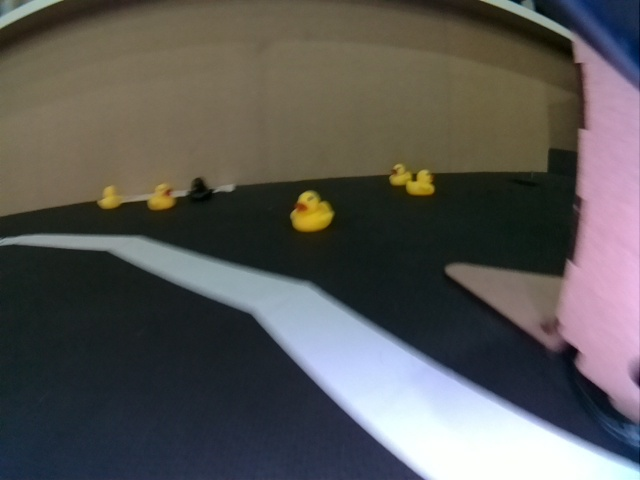Duckie: (291, 191, 334, 231), (406, 169, 435, 195), (148, 184, 176, 210), (98, 186, 123, 209), (390, 164, 407, 185)
